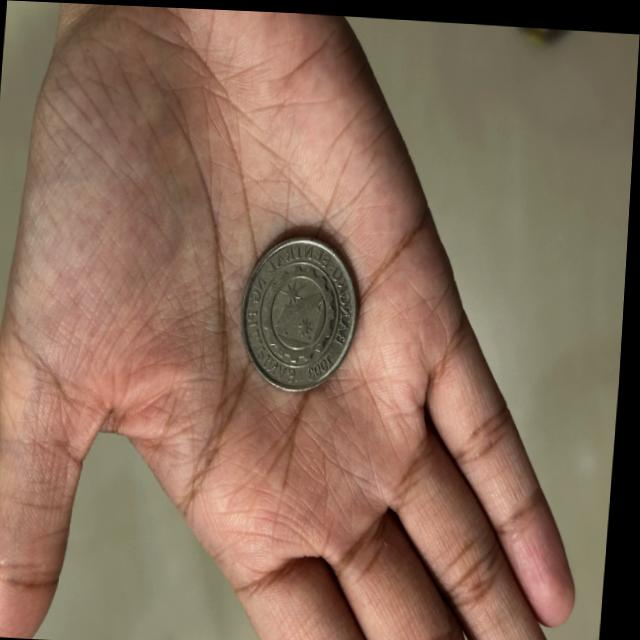1_Old_Back: (257, 255, 349, 361)
